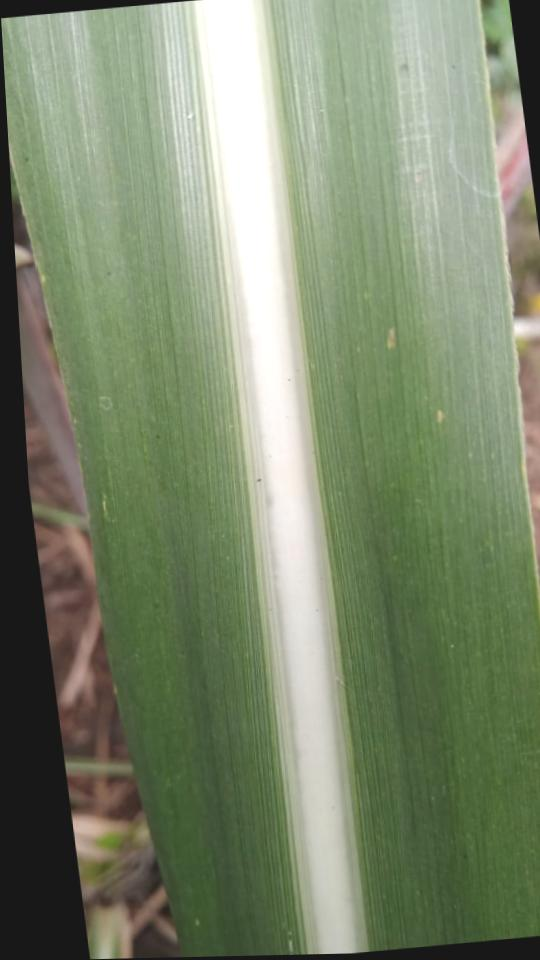Healthy: (1, 0, 540, 957)
